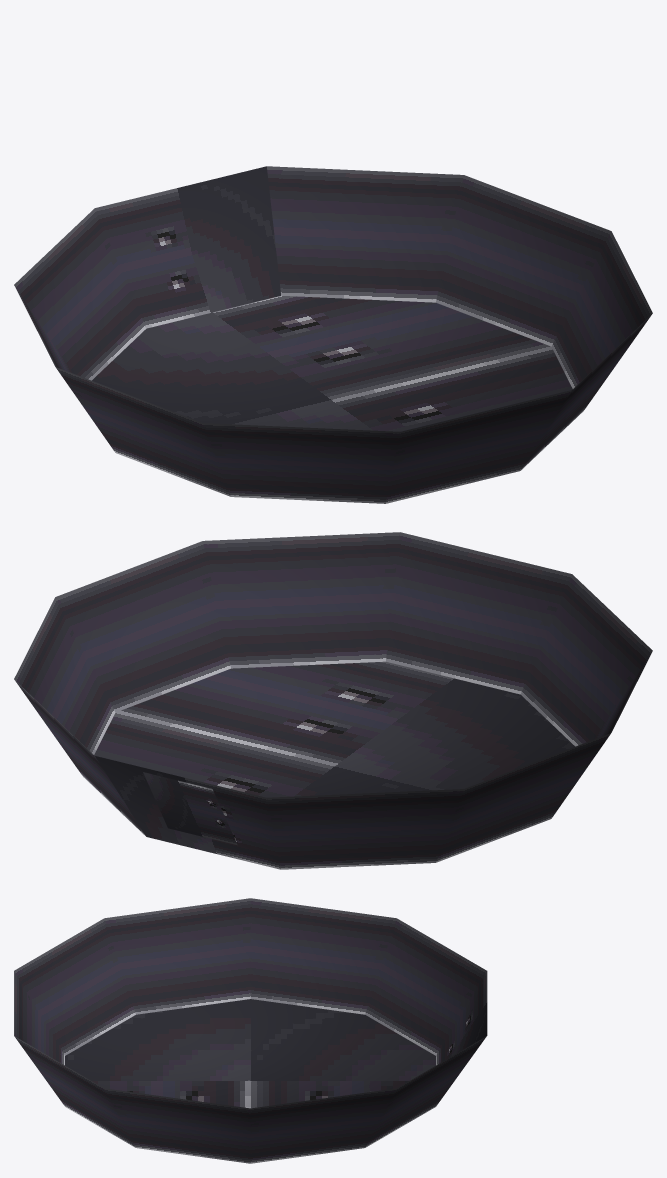
3 renders of one model, top to bottom at view 1: azimuth 30°, elevation 25°; view 2: azimuth 150°, elevation 25°; view 3: azimuth 270°, elevation 25°, orthographic. The views are drawn at different scales.
Visible parts, largest first — view 1: 1088item559; view 2: 1088item559; view 3: 1088item559.
Part boxes in pixels (x1,y1,x2,y2): 1088item559: (14,166,652,503); 1088item559: (14,532,652,869); 1088item559: (14,898,487,1163).
Size of the model in its own units: 1.01 by 0.3403 by 1.3.
1 material, 1 textured.
